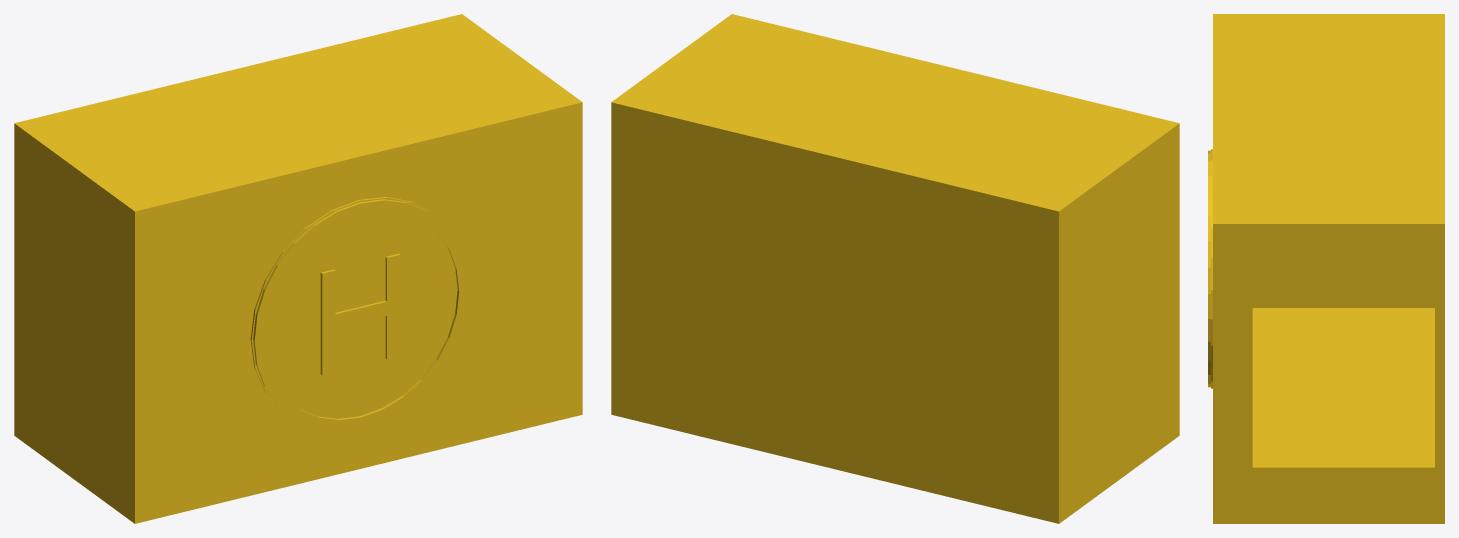
Rendered from deploy_station_fixed.obj.
3 renders of one model, left to right at view 1: azimuth 30°, elevation 25°; view 2: azimuth 150°, elevation 25°; view 3: azimuth 270°, elevation 25°, orthographic. The views are drawn at different scales.
Parts seen in each view (by area): view 1: deploy_station_h; view 2: deploy_station_h; view 3: deploy_station_h.
Boxes of the visible parts, x1,y1,x2,y2 form: deploy_station_h: (14,14,582,523); deploy_station_h: (611,14,1179,523); deploy_station_h: (1208,14,1444,523).
Size of the model in its own units: 6 by 4 by 2.86.
